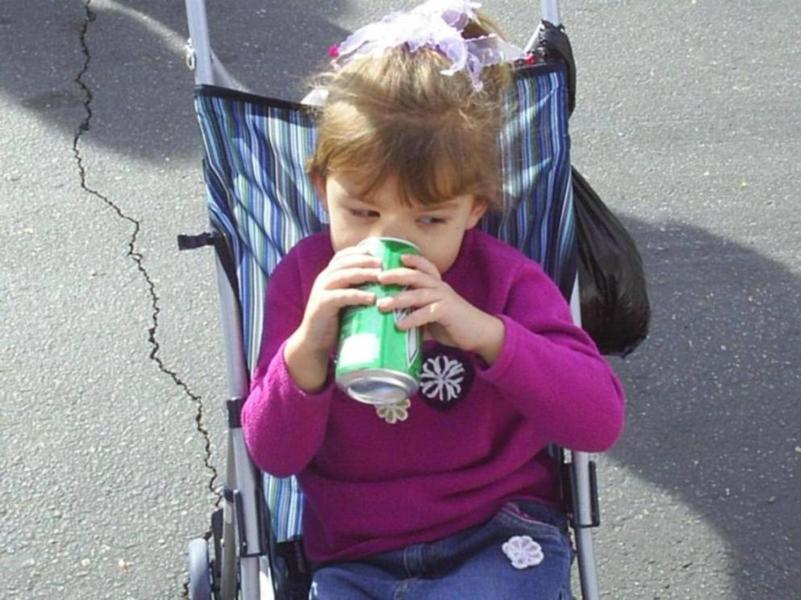person: (240, 14, 627, 600)
